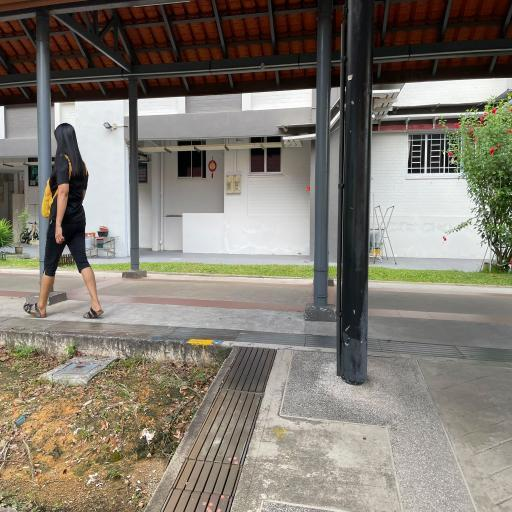person_left: (24, 120, 104, 317)
